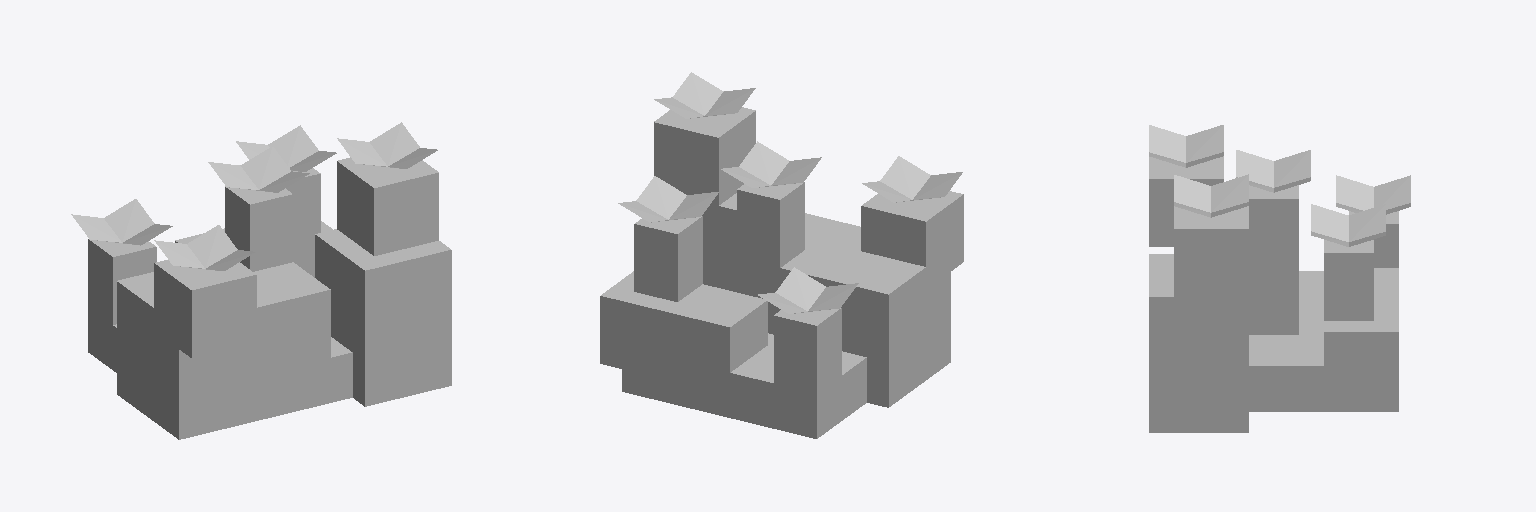
The model's file is desert_rose.obj.
The picture shows the model from 3 angles: view 1: azimuth 30°, elevation 25°; view 2: azimuth 150°, elevation 25°; view 3: azimuth 270°, elevation 25°; orthographic projection.
Visible parts, largest first — view 1: node; view 2: node; view 3: node.
Boxes of the visible parts, box(x1,y1,x2,y2) form: node: box(71, 122, 451, 439); node: box(600, 72, 963, 438); node: box(1149, 125, 1410, 432).
Bounding box in the file's own units: 0.75 × 0.625 × 0.6562.